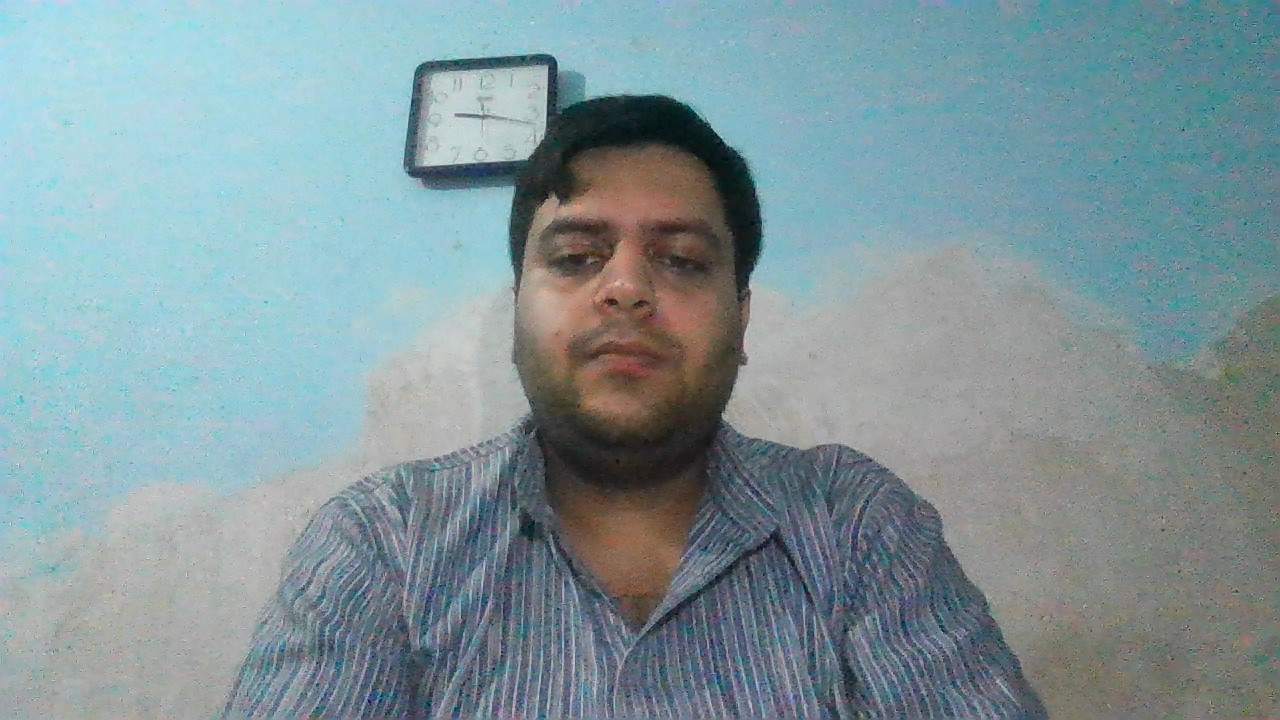No Mask: (508, 282, 755, 466)
